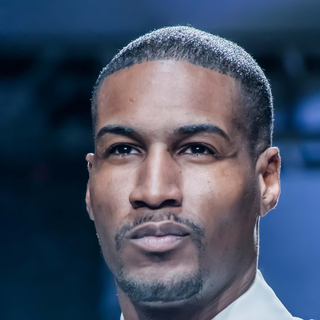eye: (100, 136, 147, 165), (173, 140, 221, 167)
